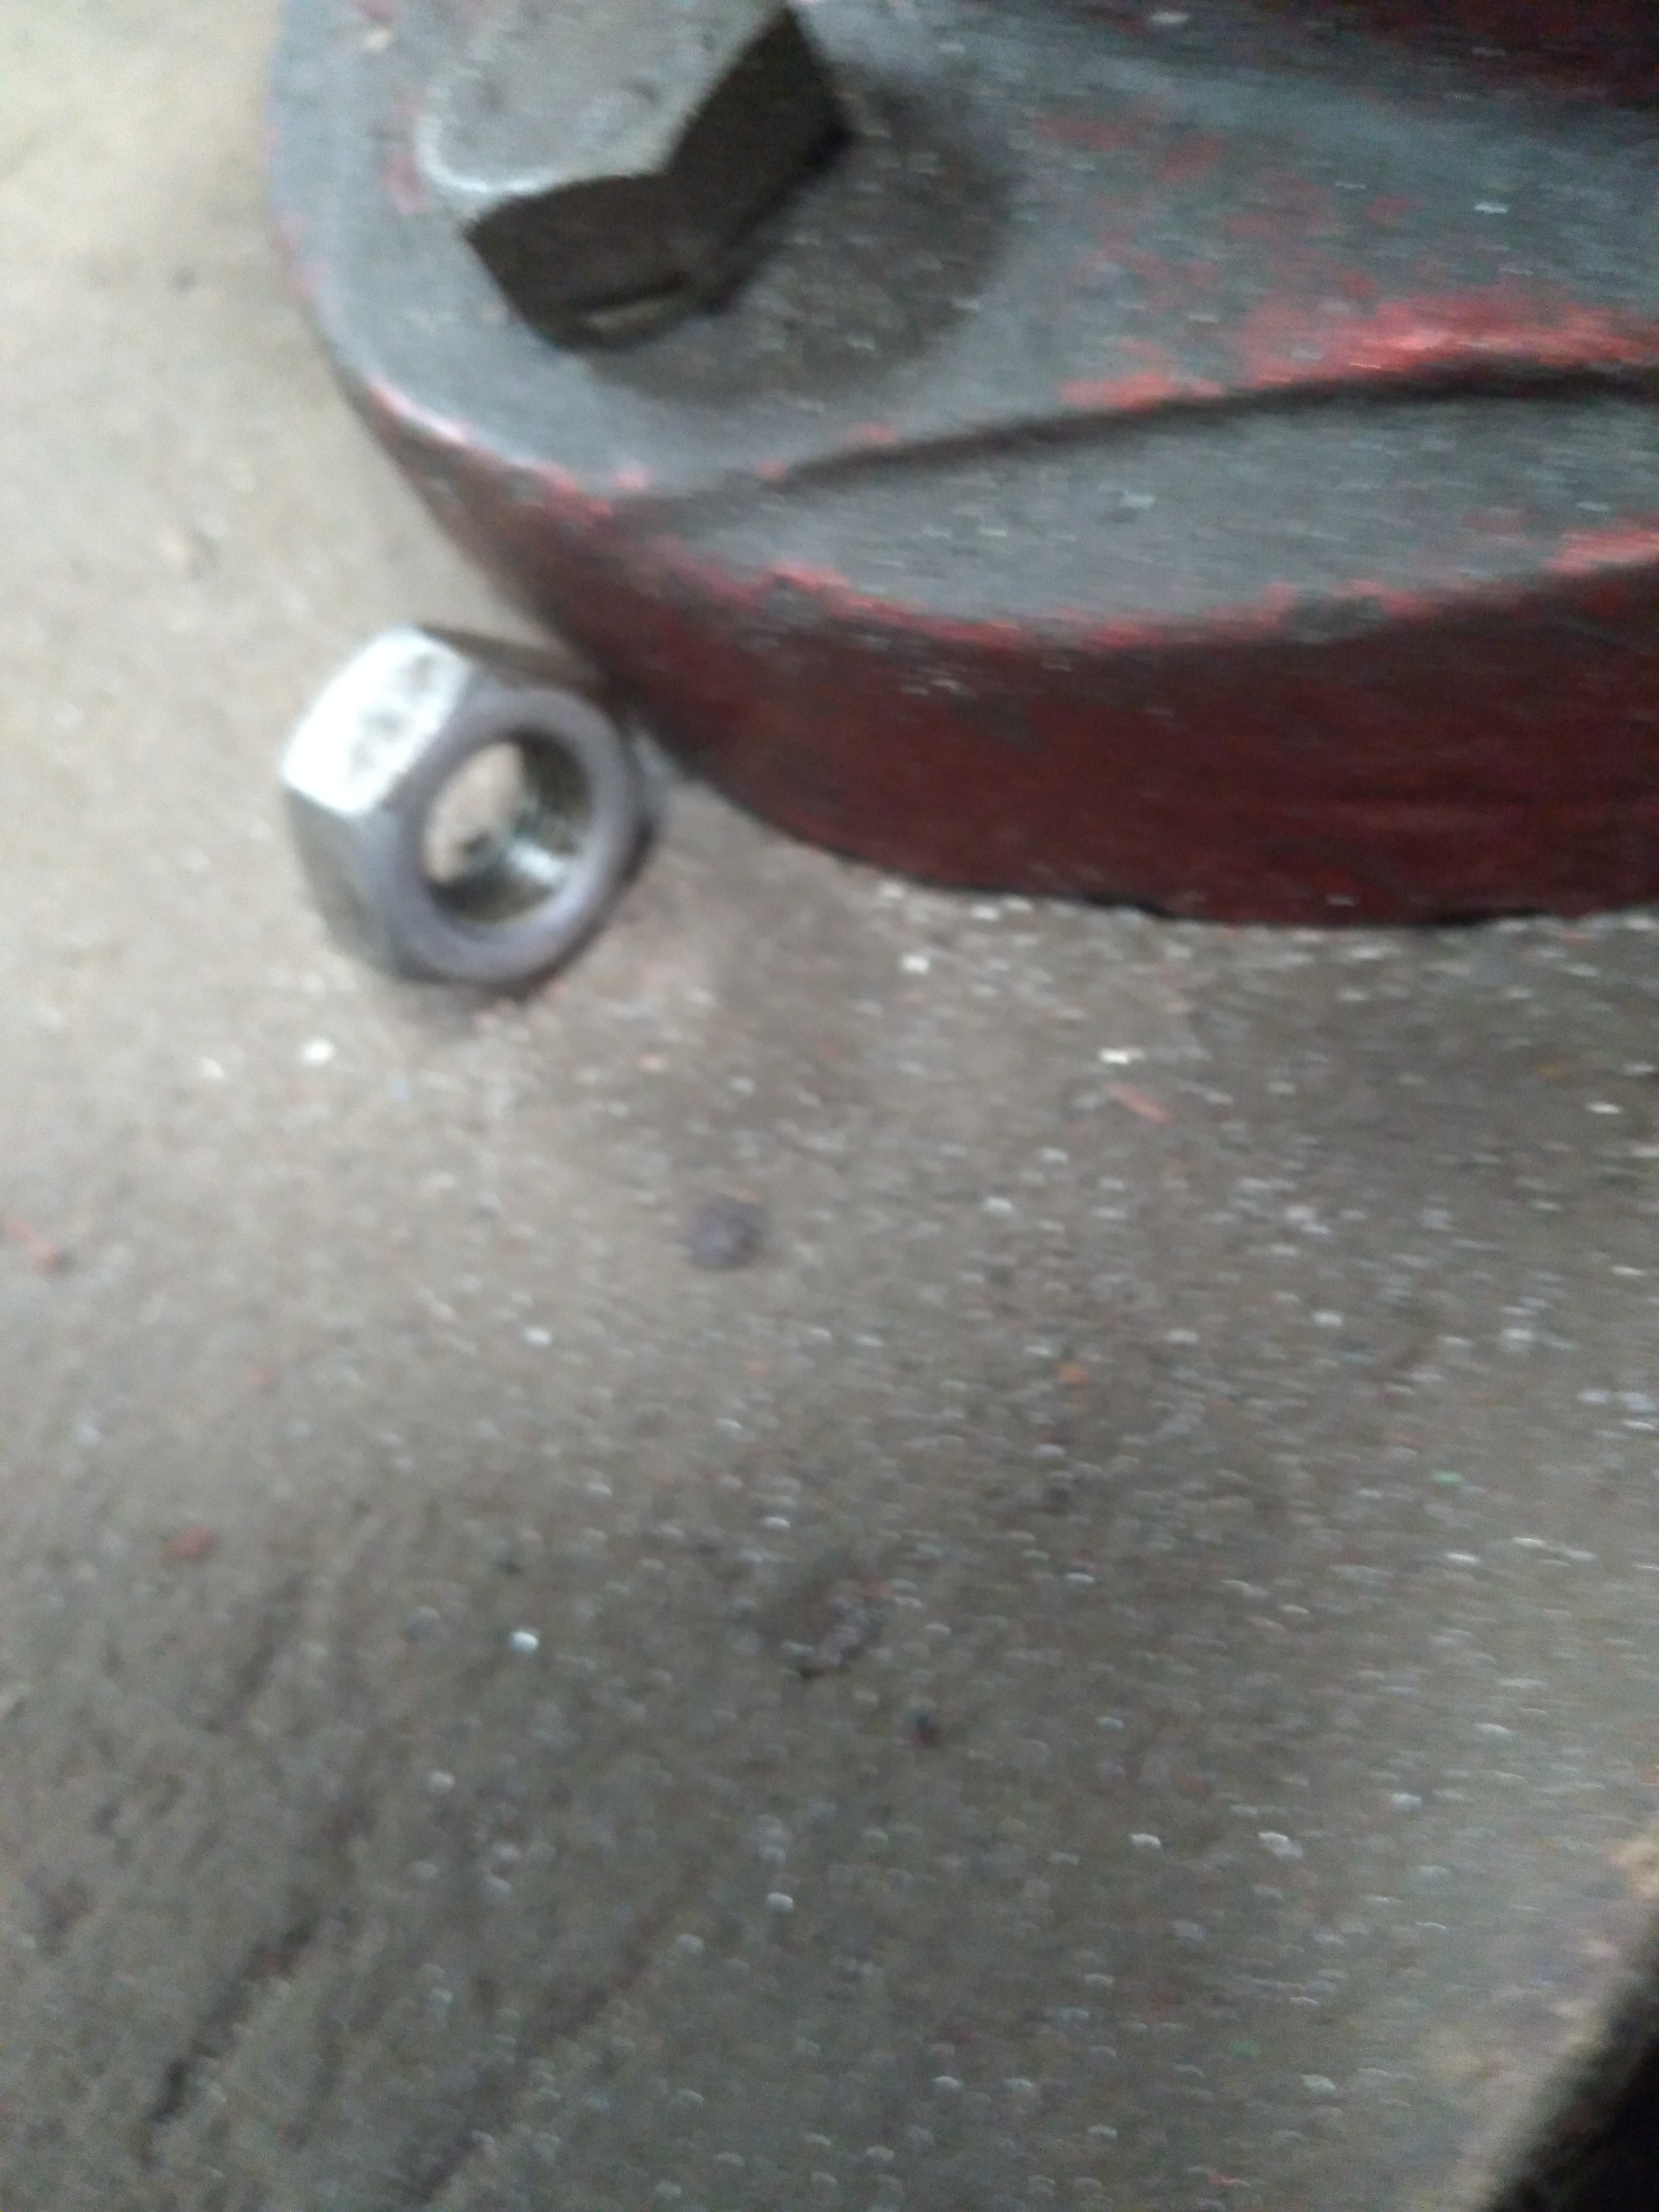Thread: (366, 726, 627, 934)
